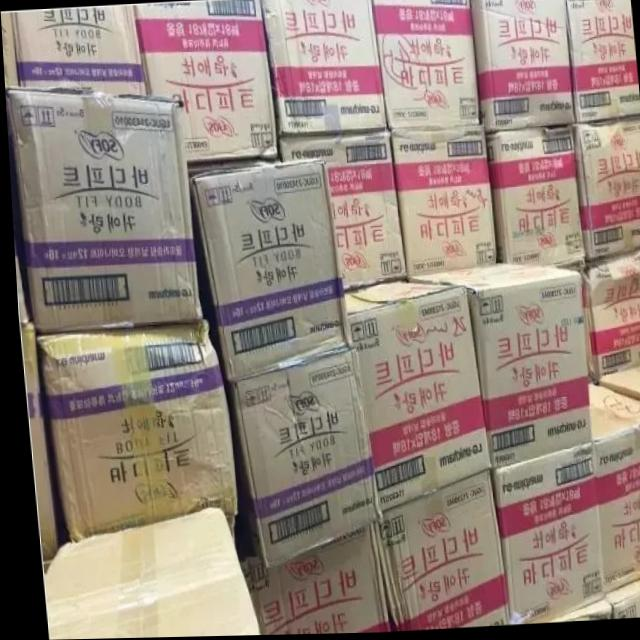box: (4, 88, 195, 334), (34, 318, 232, 549), (401, 260, 584, 468), (187, 159, 343, 382), (221, 345, 374, 569), (341, 276, 485, 512), (38, 512, 253, 640), (132, 0, 279, 163), (366, 472, 502, 630), (275, 130, 400, 294), (486, 445, 596, 625), (230, 520, 384, 636), (261, 0, 388, 134), (387, 125, 494, 277), (485, 121, 584, 268), (370, 0, 483, 125), (471, 0, 574, 133), (585, 381, 640, 594), (13, 7, 145, 95), (572, 120, 640, 260), (563, 0, 639, 122), (578, 246, 640, 379), (16, 325, 48, 558), (549, 264, 591, 382), (8, 173, 28, 325), (595, 574, 640, 619), (593, 362, 640, 400), (542, 596, 606, 622), (1, 14, 20, 87)
